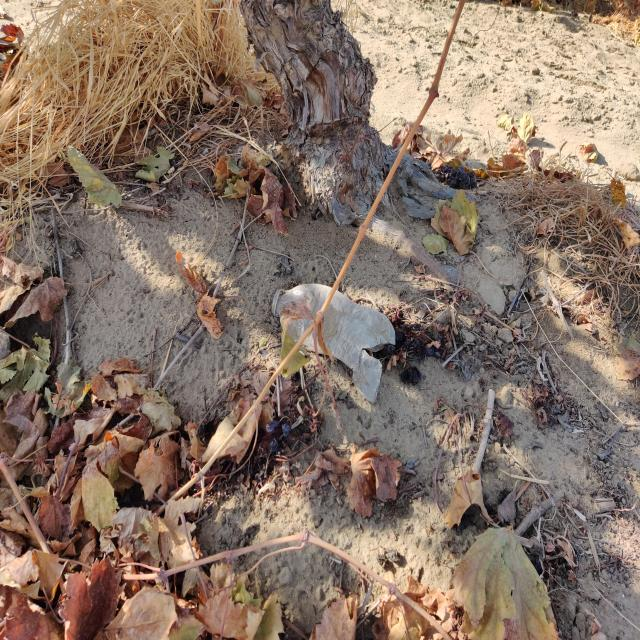litter: (271, 284, 396, 403)
